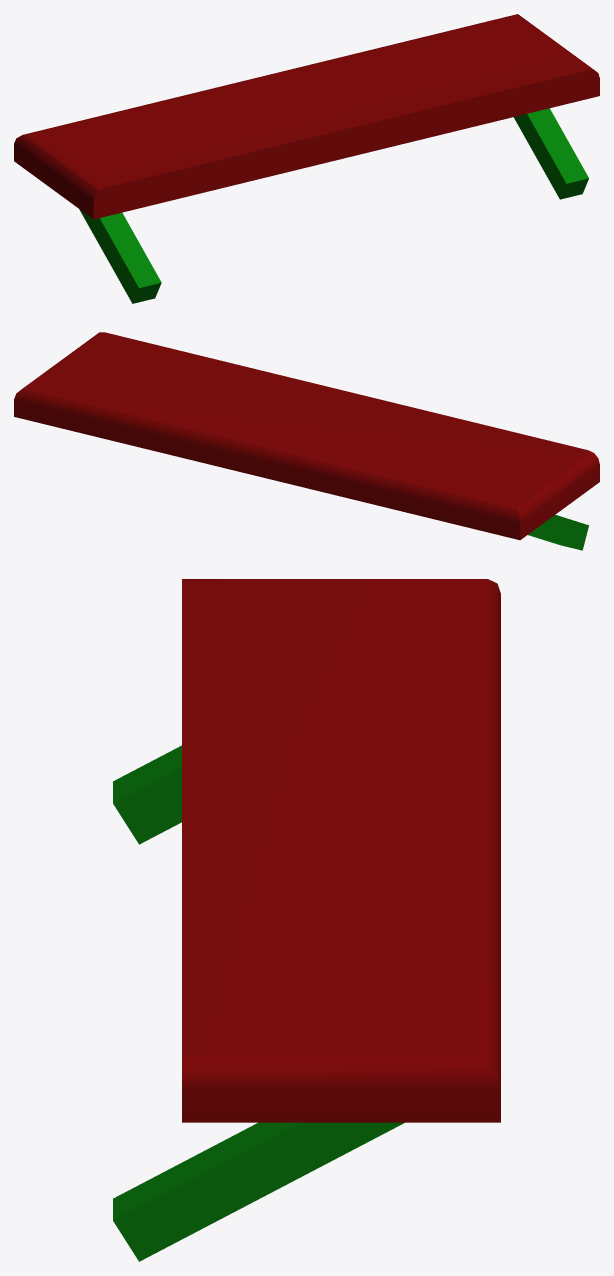
3 renders of one model, top to bottom at view 1: azimuth 30°, elevation 25°; view 2: azimuth 150°, elevation 25°; view 3: azimuth 270°, elevation 25°, orthographic. The views are drawn at different scales.
Parts seen in each view (by area): view 1: pCube1, pCube2; view 2: pCube1, pCube2; view 3: pCube1, pCube2.
Boxes of the visible parts, x1,y1,x2,y2 form: pCube1: [14, 14, 599, 219]; pCube2: [79, 108, 588, 303]; pCube1: [14, 332, 599, 540]; pCube2: [528, 515, 588, 550]; pCube1: [182, 579, 500, 1122]; pCube2: [113, 745, 404, 1261].
Bounding box in the file's own units: 275 × 58.29 × 91.25.
